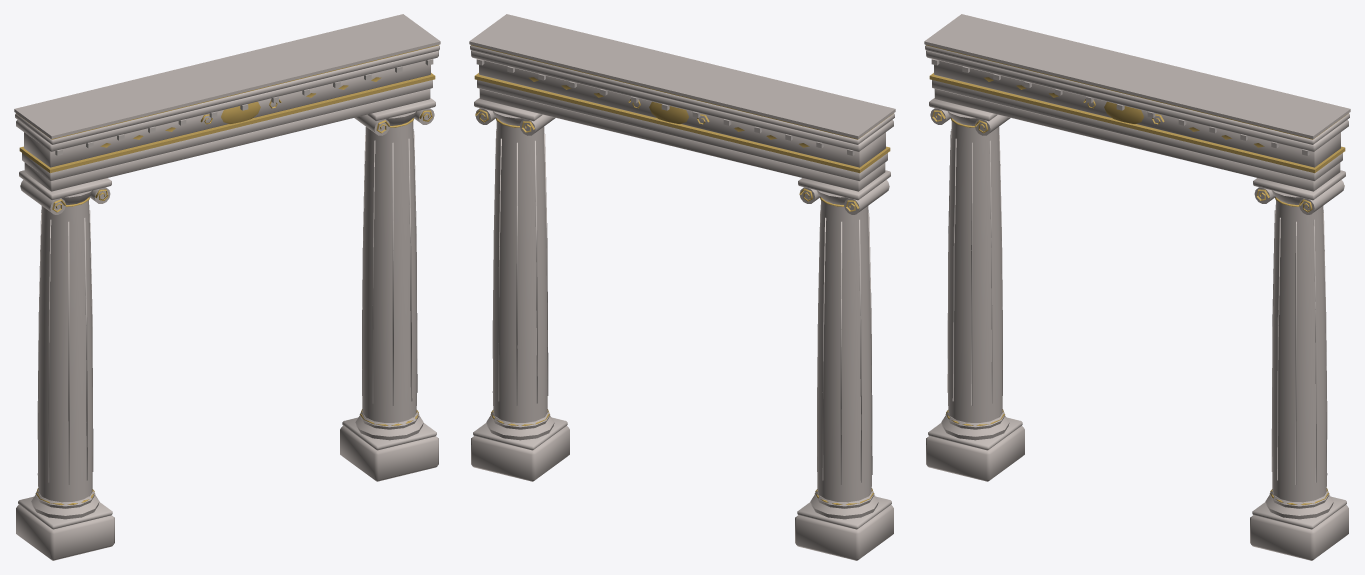
File: colonnade_screen.glb
3 views of the same model, side by side, from view 1: azimuth 30°, elevation 25°; view 2: azimuth 150°, elevation 25°; view 3: azimuth 330°, elevation 25° (orthographic).
Parts seen in each view (by area): view 1: colonnade_screen; view 2: colonnade_screen; view 3: colonnade_screen.
Part boxes in pixels (x1,y1,x2,y2): colonnade_screen: (14,14,440,560); colonnade_screen: (469,14,895,560); colonnade_screen: (924,14,1350,560).
Size of what is drawn, in the model's own units: 4.2 by 4.4 by 0.7.
